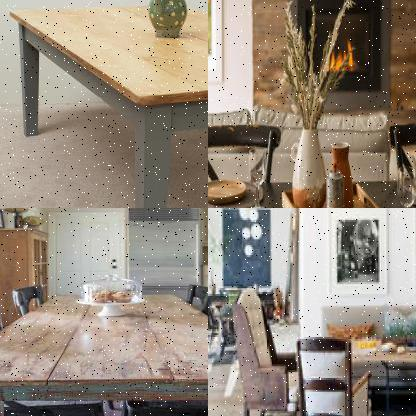table: (5, 0, 207, 207), (0, 287, 207, 415), (293, 323, 415, 415), (208, 165, 415, 207)
